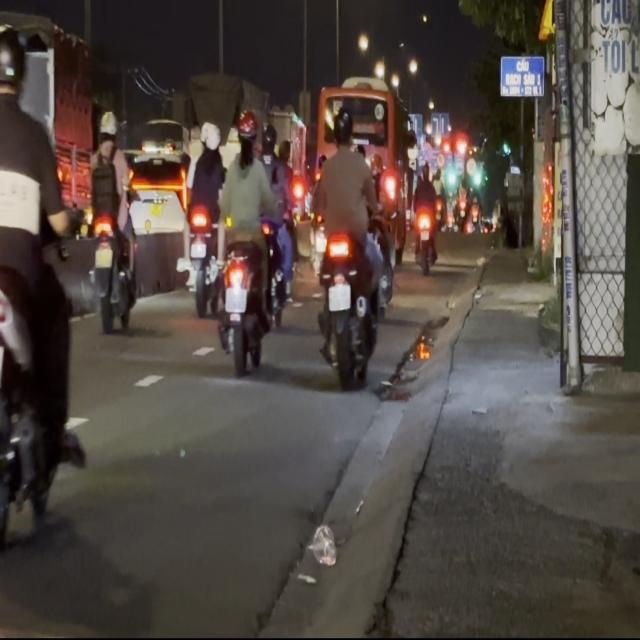helmet: (0, 24, 27, 105)
licenseplate: (0, 19, 84, 556), (312, 102, 384, 387)
motorcyclist: (332, 105, 354, 147)
nohelmet: (328, 284, 350, 310)
